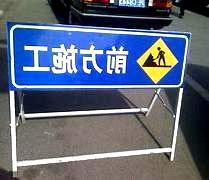sign: (11, 27, 185, 88)
